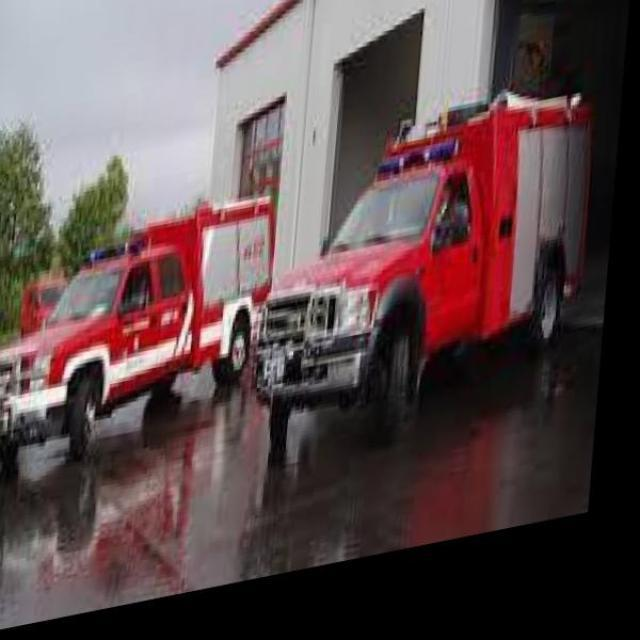emergency: (252, 86, 594, 436), (0, 192, 276, 463)
